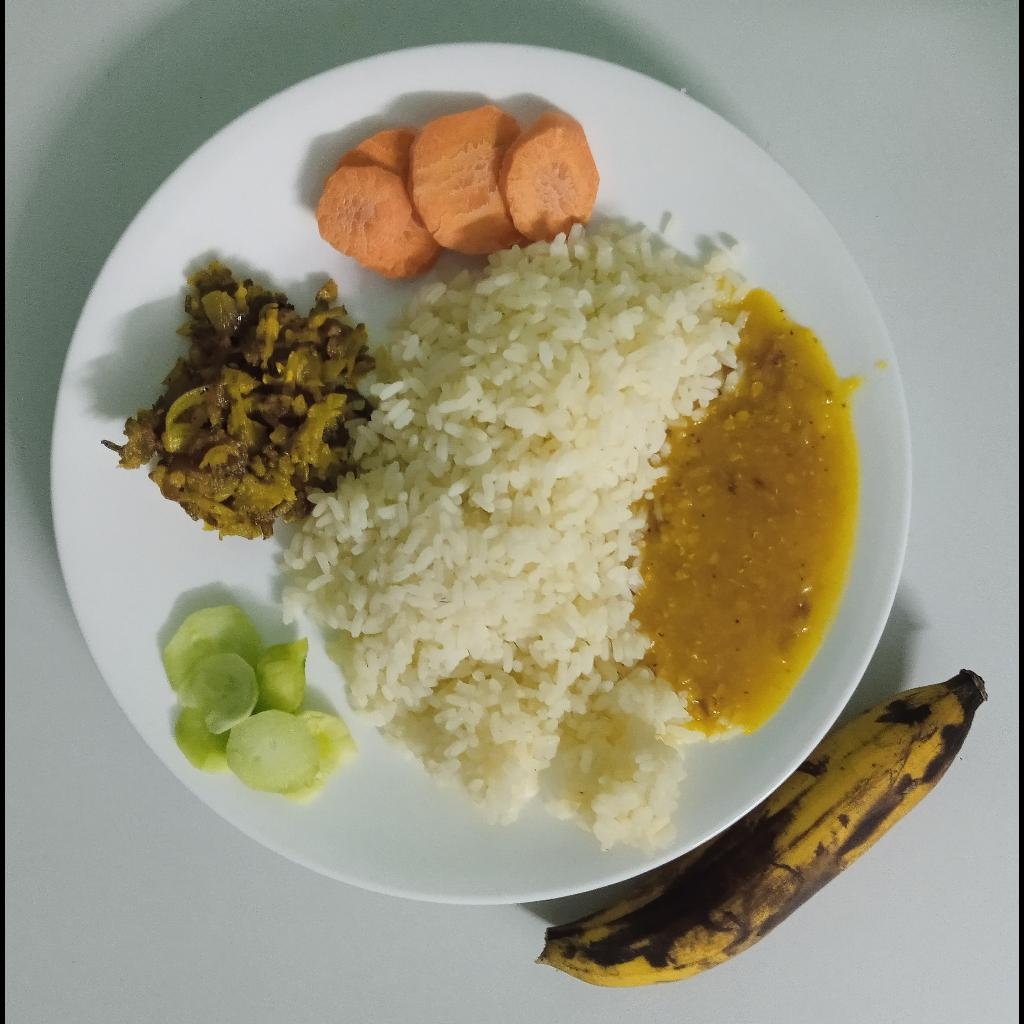banana: (537, 669, 988, 988)
carrot: (316, 104, 602, 279)
cucumber: (161, 605, 360, 804)
daal: (636, 288, 861, 734)
dundol: (113, 264, 370, 539)
rice: (279, 225, 752, 852)
